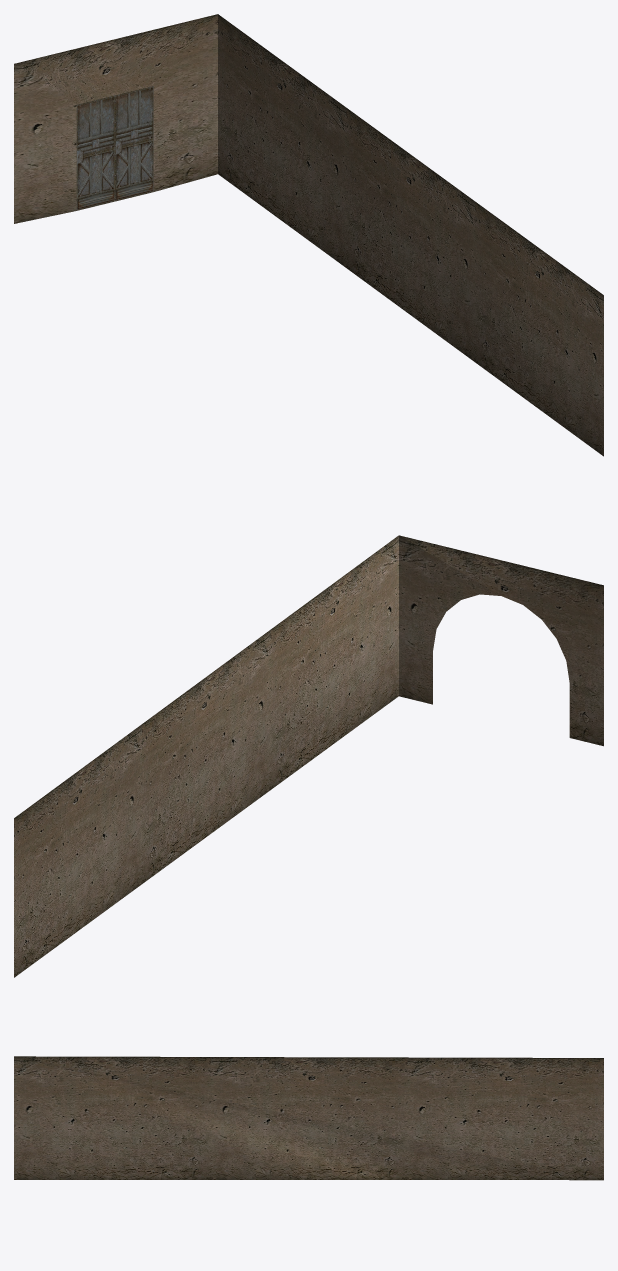
The model's file is M11Z1_TownWall03_B2.glb.
3 renders of one model, top to bottom at view 1: azimuth 30°, elevation 25°; view 2: azimuth 150°, elevation 25°; view 3: azimuth 270°, elevation 25°, orthographic. The views are drawn at different scales.
Visible parts, largest first — view 1: M11Z1_TOWNWALL03_B2; view 2: M11Z1_TOWNWALL03_B2; view 3: M11Z1_TOWNWALL03_B2.
Boxes of the visible parts, x1=… form: M11Z1_TOWNWALL03_B2: x1=14, y1=14, x2=603, y2=456; M11Z1_TOWNWALL03_B2: x1=14, y1=535, x2=603, y2=977; M11Z1_TOWNWALL03_B2: x1=14, y1=1056, x2=603, y2=1180.
Size of the model in its own units: 9.6 by 7.3 by 31.2.
2 materials, 2 textured.
